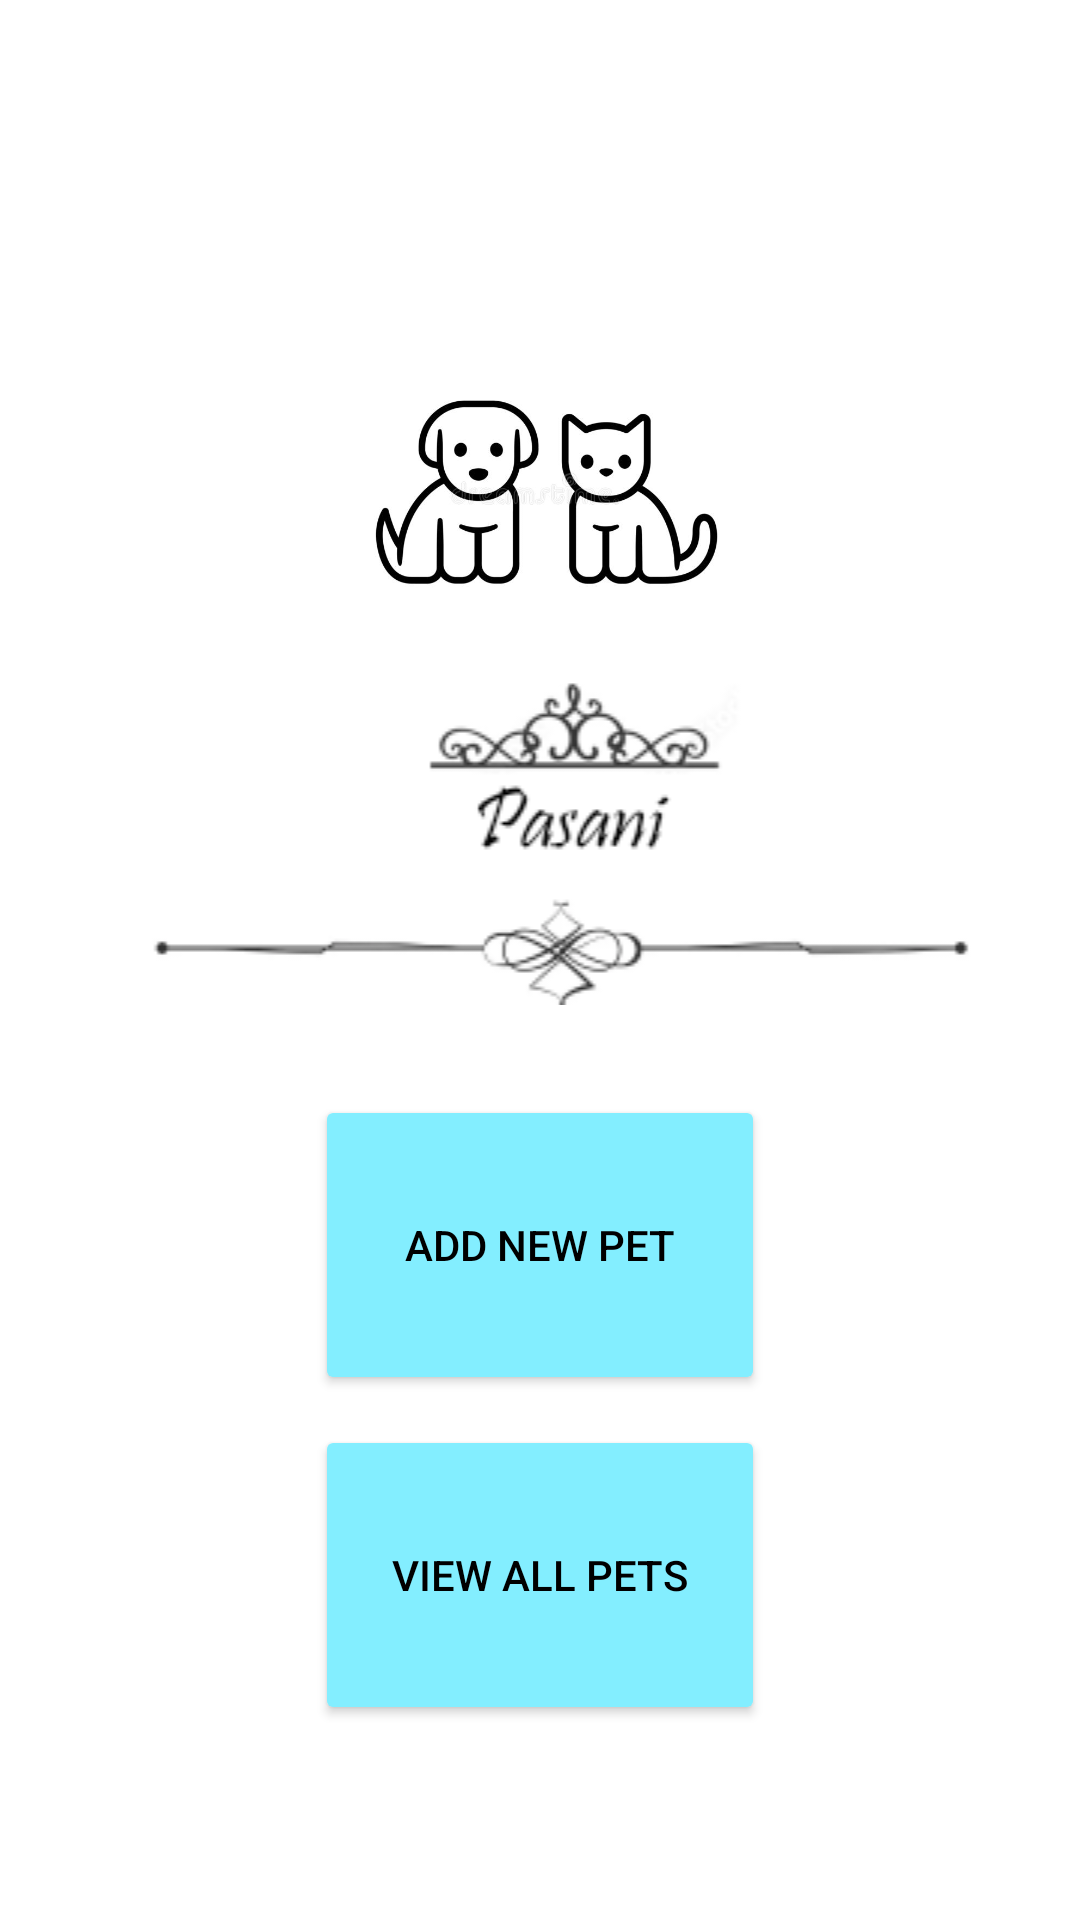

Icons on this 1080 × 1920 Android screen, each with its box as (x1, y1, x2, y2):
pupcat: (376, 400, 718, 584)
